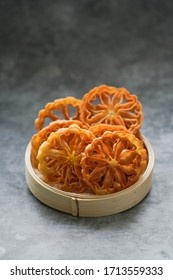kembang_goyang: (82, 130, 146, 200)
